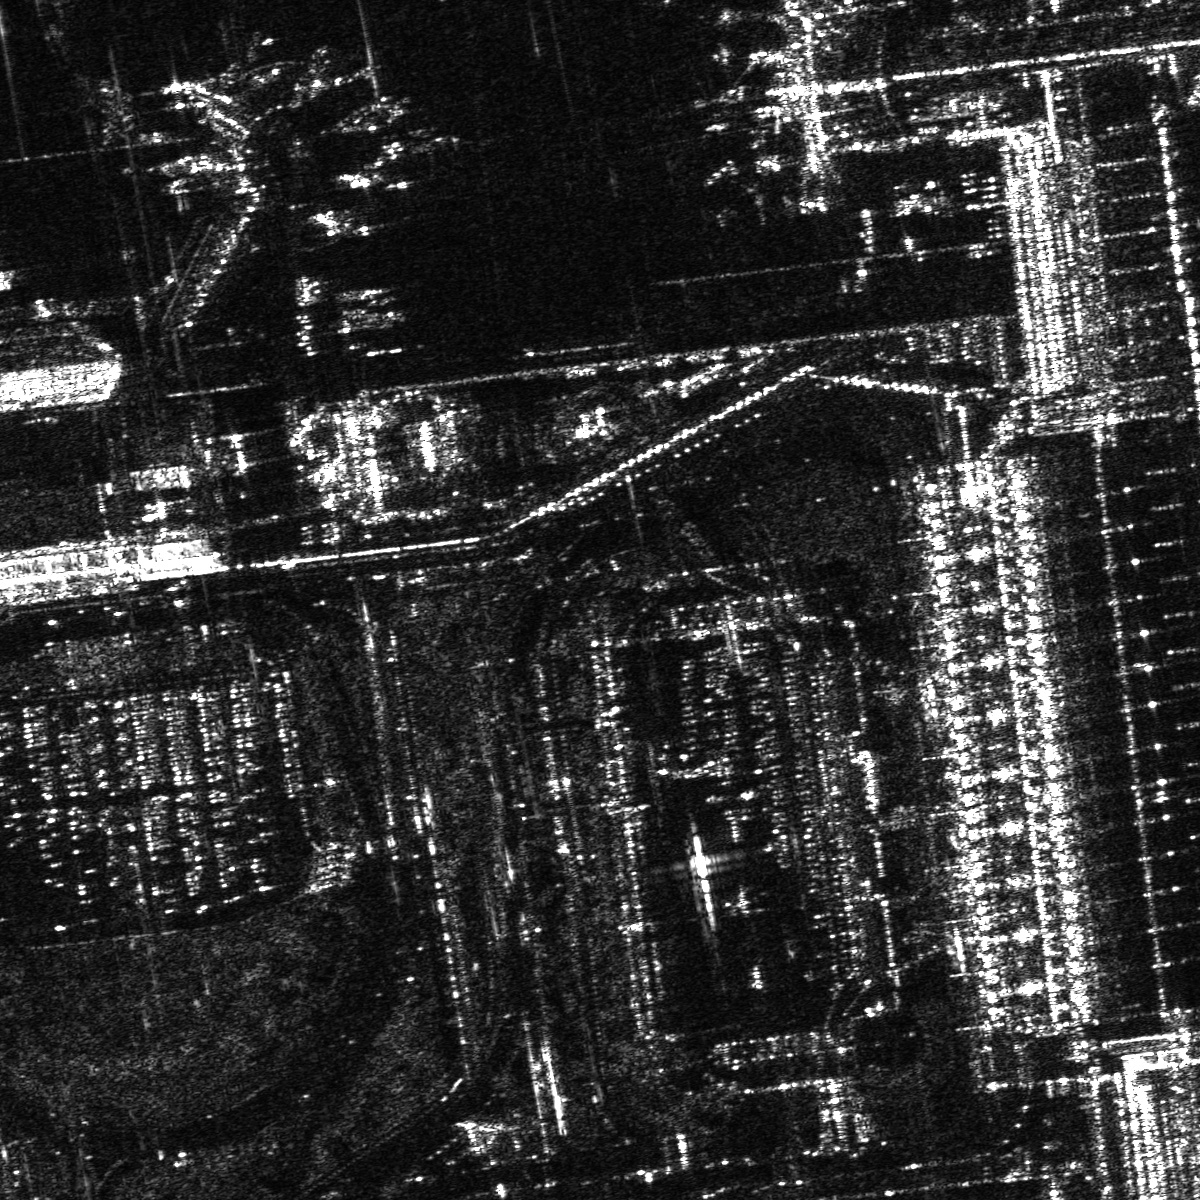Boeing787: (713, 177, 773, 229)
